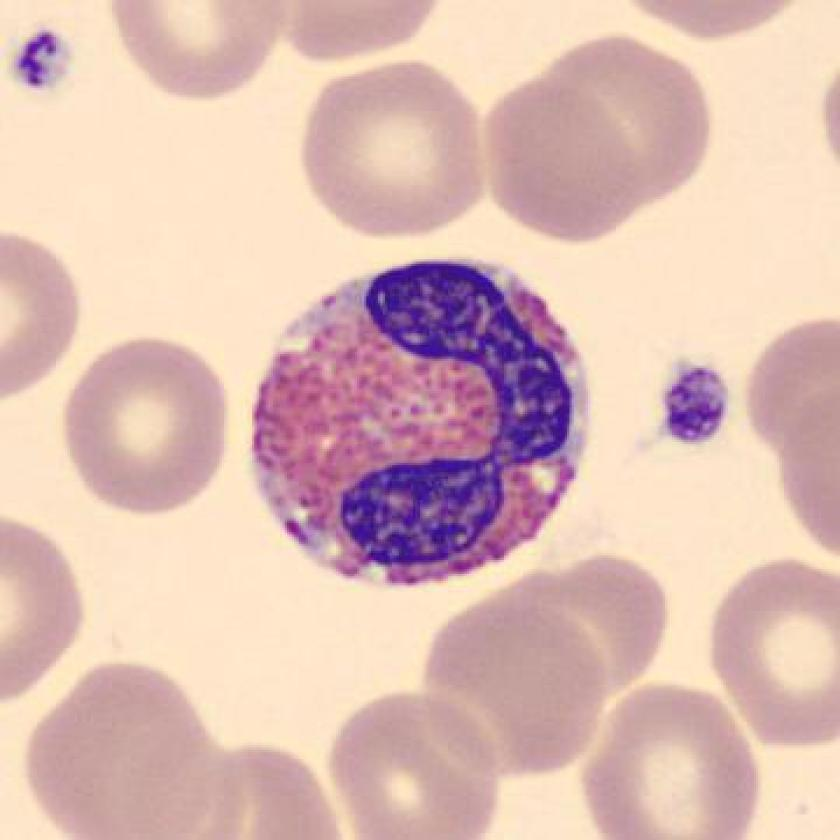eosinophil: (235, 249, 606, 598)
